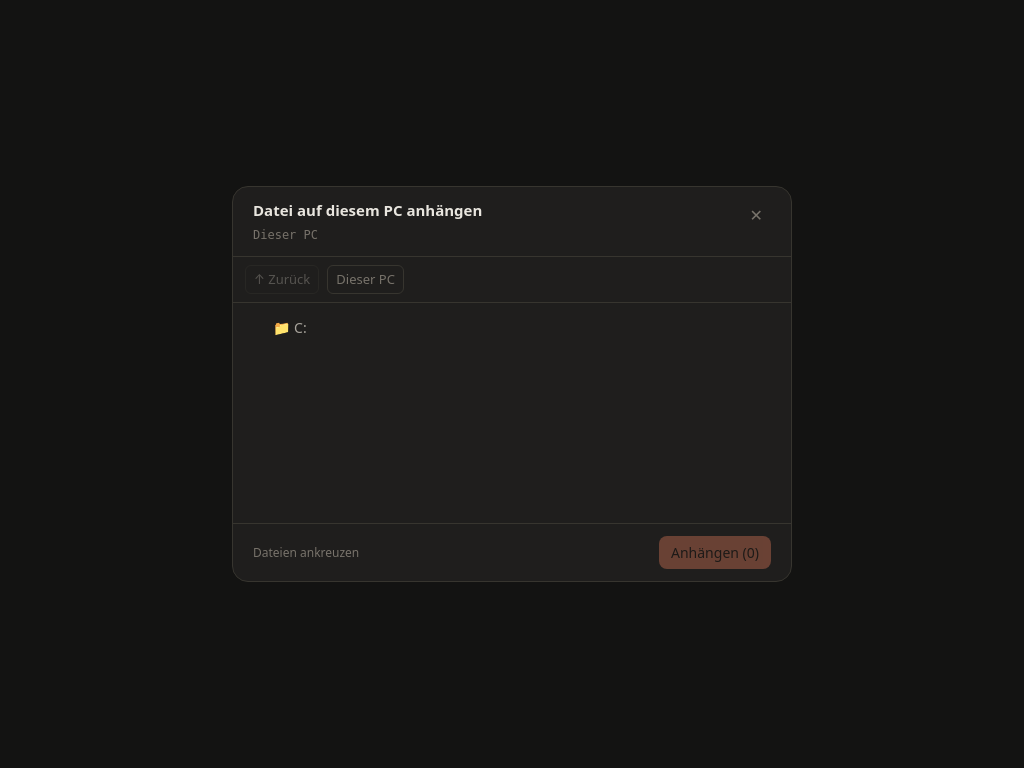
Test: FilePicker › shows sizes in KB and flags files over 1 MB
Step 1. Click the button "📁 C:" → (284, 328), box x1=273 y1=317 x2=775 y2=338
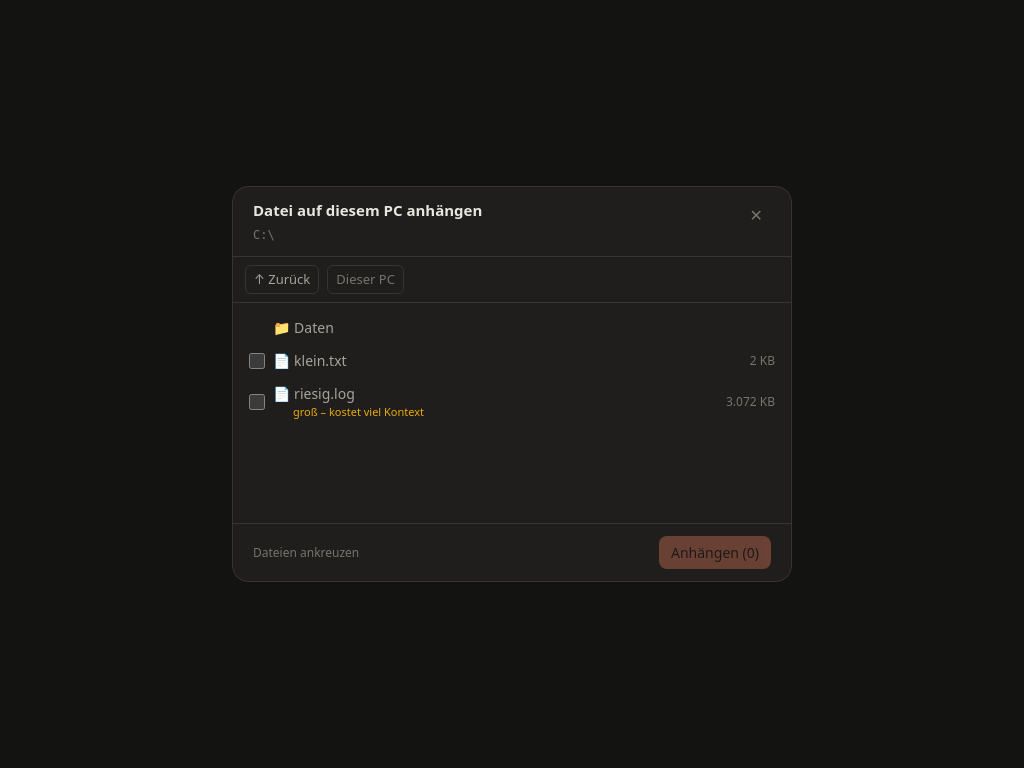
expect the text "groß – kostet viel Kontext" is shown: met, box x1=293 y1=404 x2=424 y2=419
